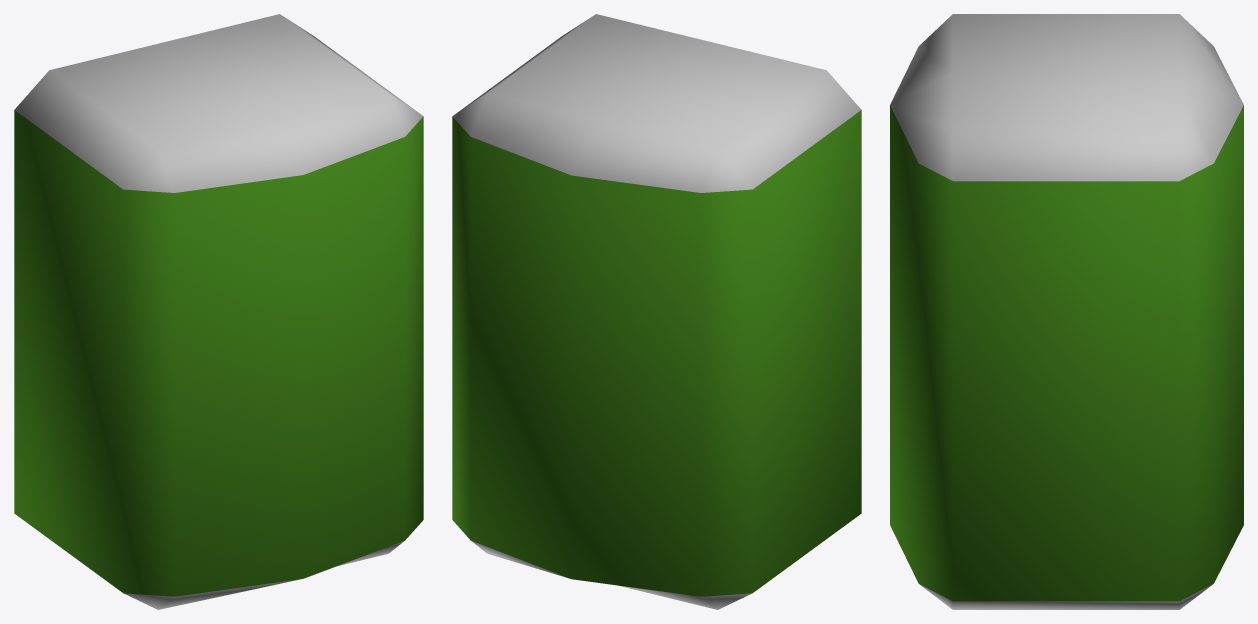
File: Kan3.fbx
3 views of the same model, side by side, from view 1: azimuth 30°, elevation 25°; view 2: azimuth 150°, elevation 25°; view 3: azimuth 270°, elevation 25° (orthographic). The views are drawn at different scales.
Visible parts, largest first — view 1: 立方体.009; view 2: 立方体.009; view 3: 立方体.009.
Boxes of the visible parts, box(x1,y1,x2,y2) form: 立方体.009: box(14, 14, 423, 609); 立方体.009: box(452, 14, 861, 609); 立方体.009: box(890, 14, 1243, 609).
Size of the model in its own units: 35.9 by 52.55 by 35.2.
